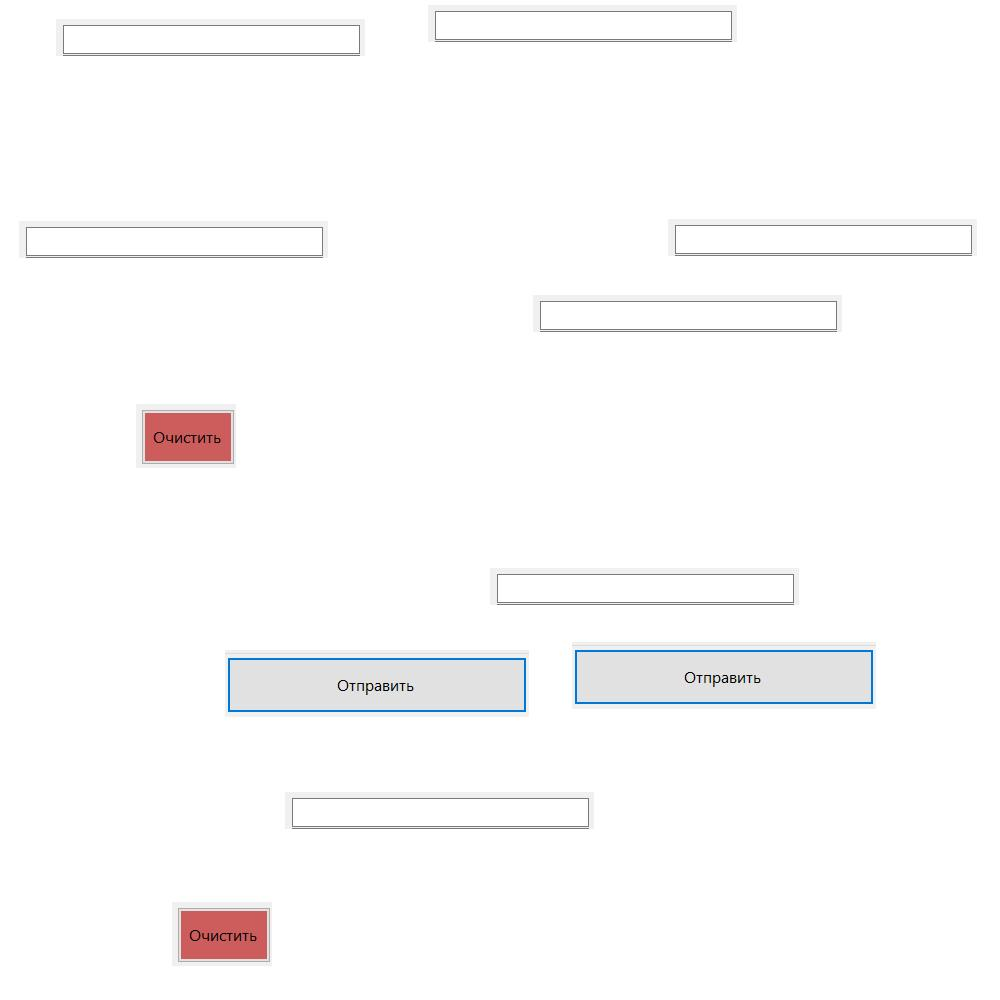Button: (225, 650, 529, 717), (572, 642, 876, 709), (172, 902, 272, 966), (136, 404, 236, 468)
EditText-: (19, 221, 328, 258), (428, 5, 737, 42), (533, 295, 842, 332), (56, 19, 365, 56), (285, 792, 594, 829), (668, 219, 977, 256), (490, 568, 799, 605)
